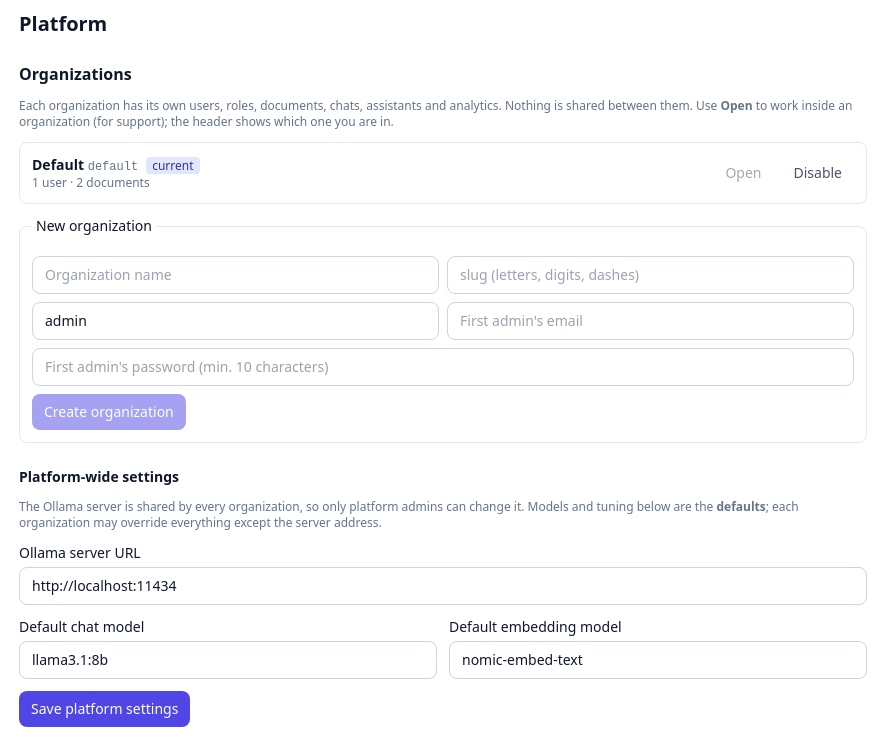
Scenario: PlatformPage › saves the platform-wide Ollama settings
Replace the text in the field labelled "Ollama server URL" with "http://10.0.0.5:11434" at [443, 586], box [19,567,867,605]
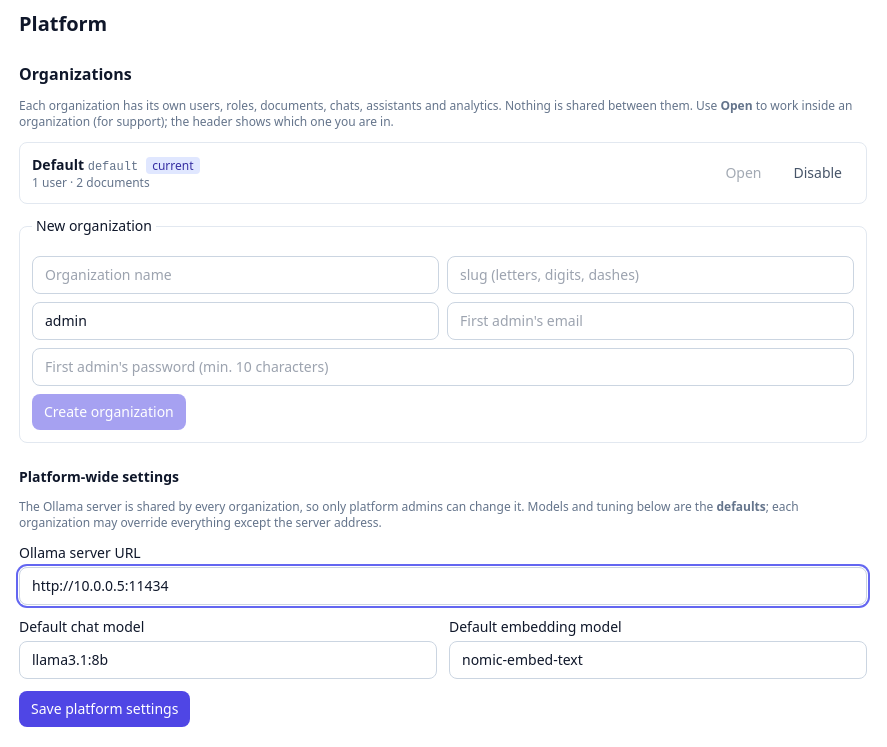
Click the button "Save platform settings" at [105, 709], box [19,691,190,727]
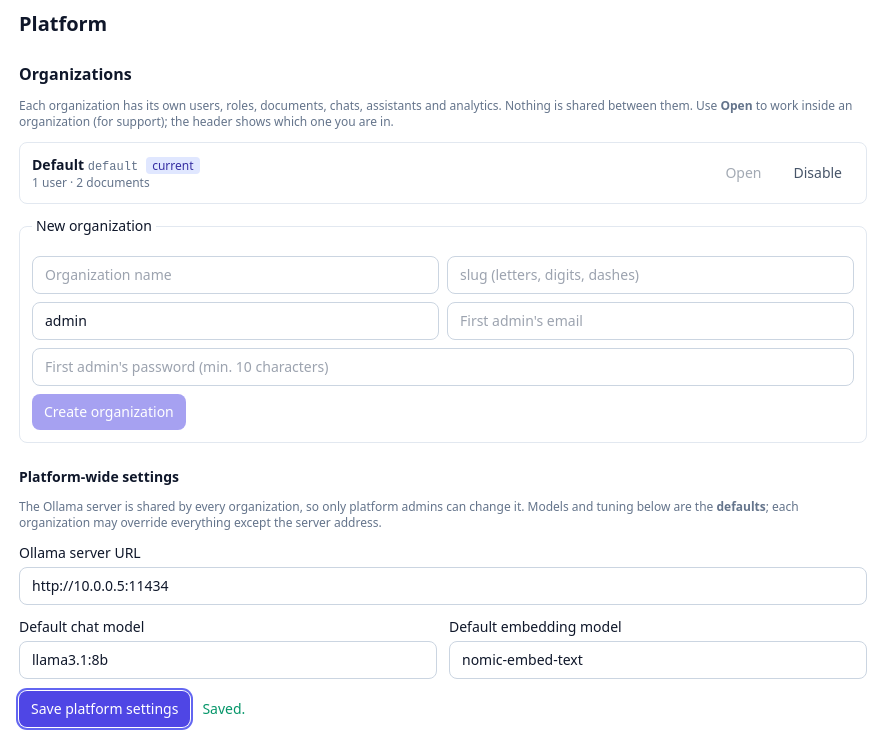
Expected: the text "Saved." is shown, [202,699,245,719]
